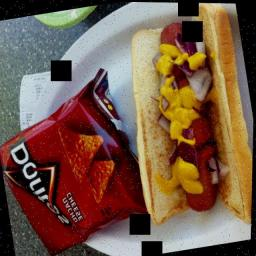hotdog: (152, 18, 224, 214)
